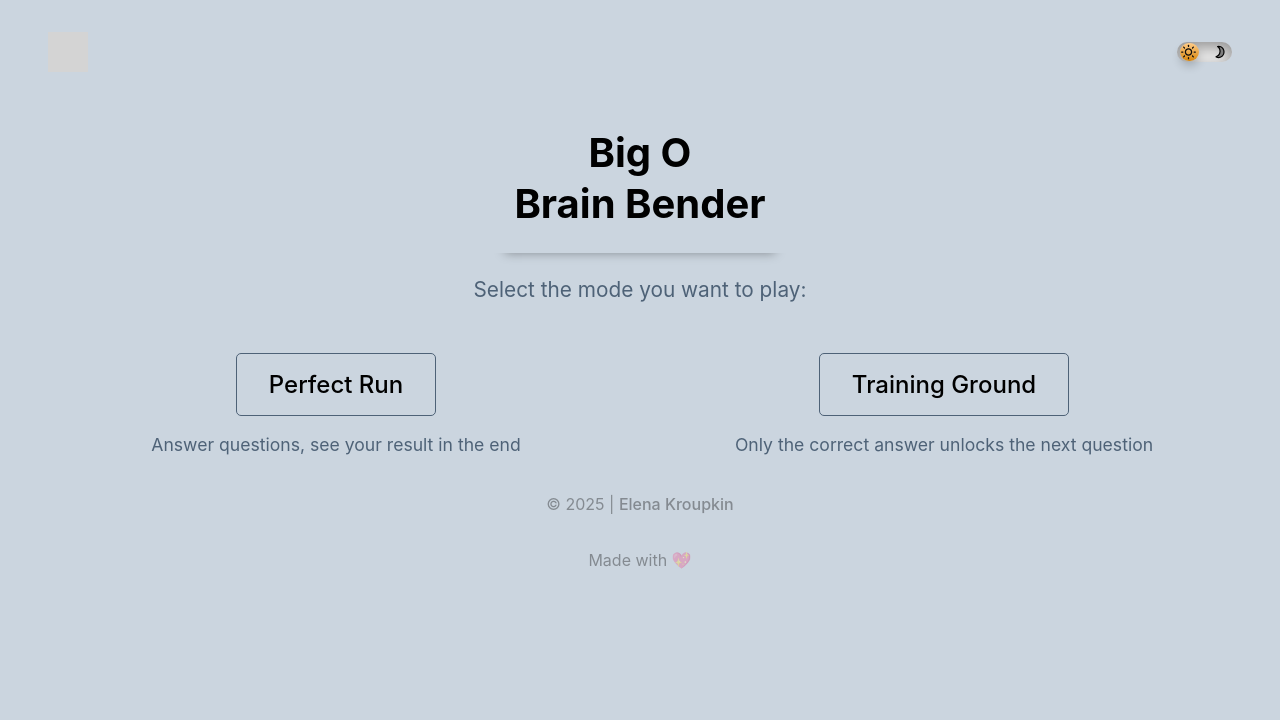
Scenario: App Component › returns to welcome screen when home button is clicked
The image size is (1280, 720).
Click the button "Perfect Run" at [336, 384], box [236,353,436,416]
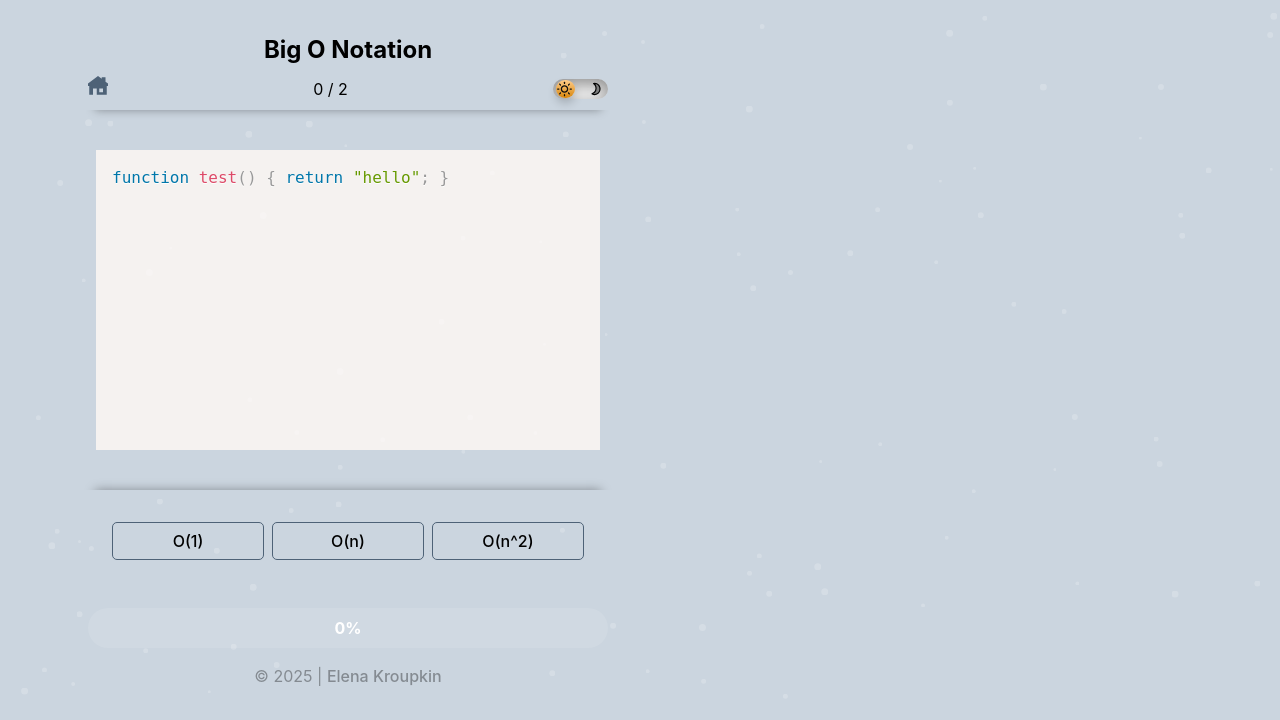
Now the heading "Big O Notation" is shown, box [264,35,432,64]
# Click home button
Click the element titled "home" at [98, 89], box [88,76,108,102]
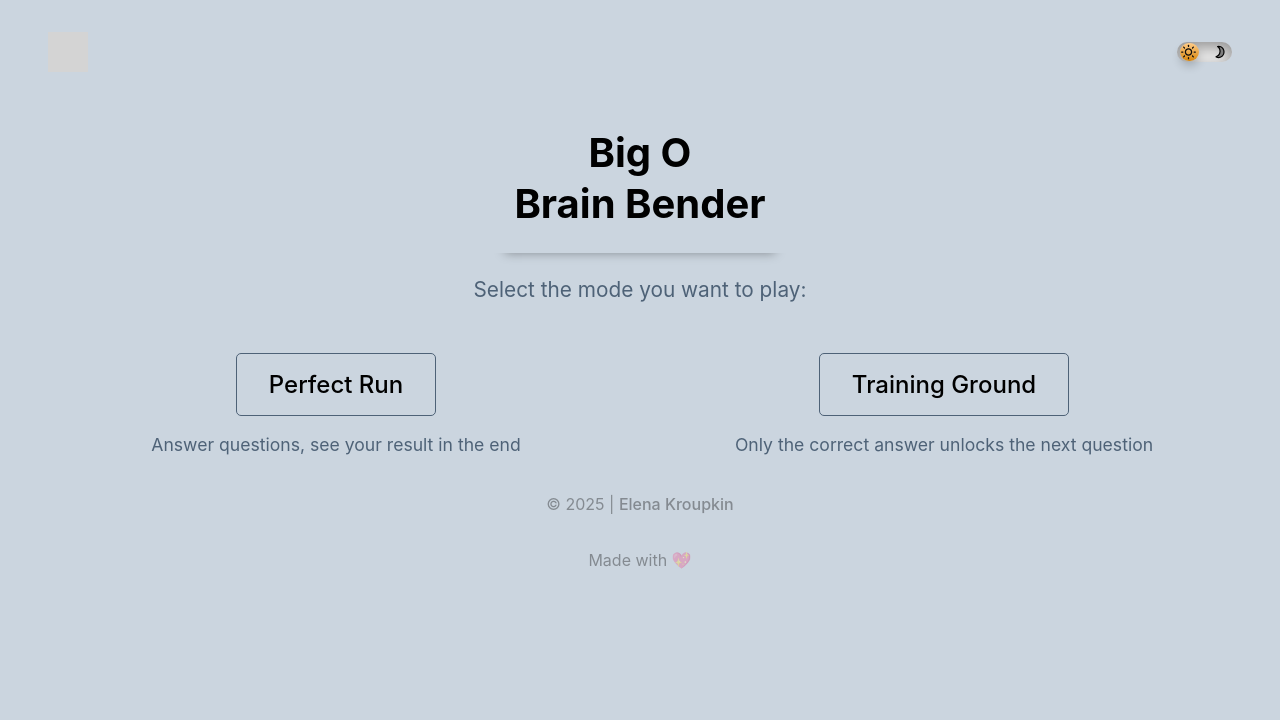
Now the heading "Brain Bender" is shown, box [514,182,766,226]
